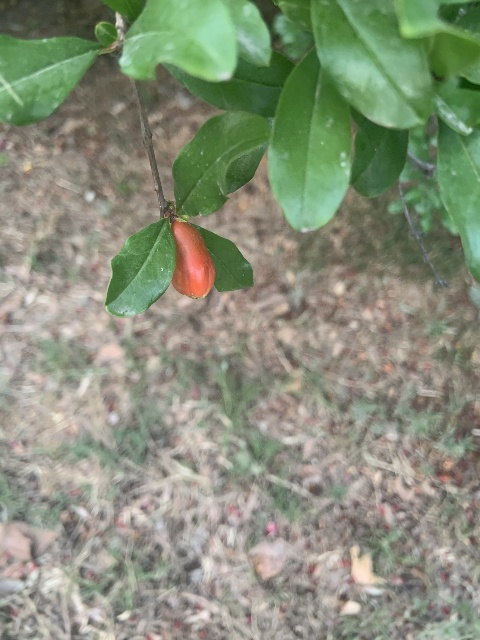bud: (169, 219, 215, 299)
